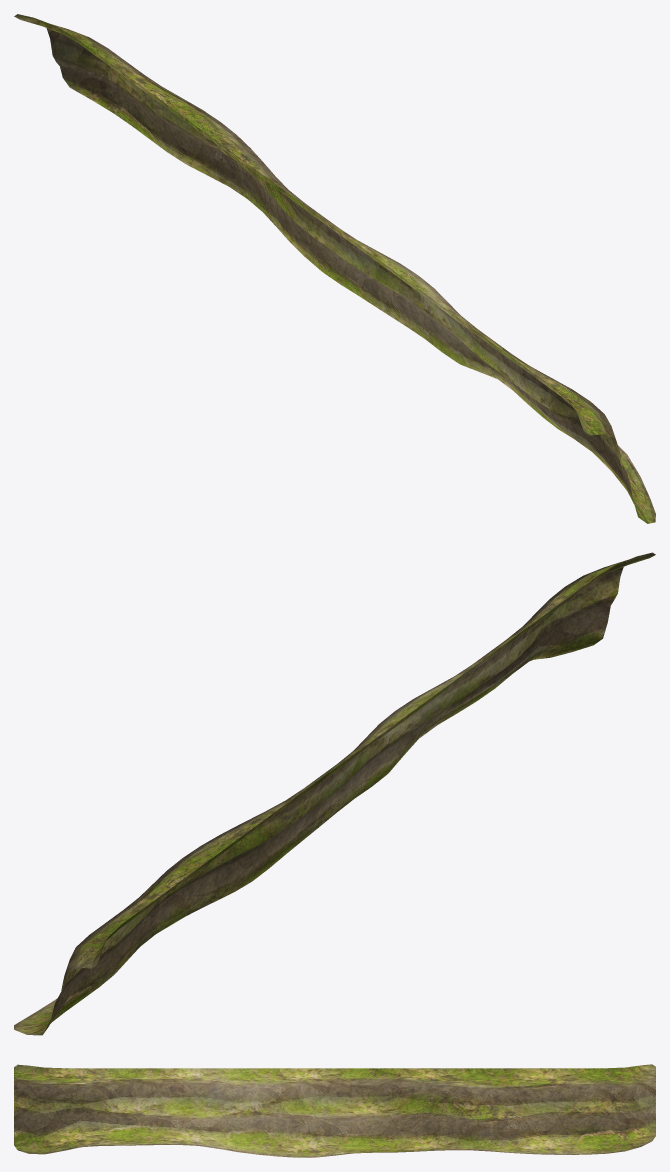
The model's file is mountain_back_02.fbx.
3 renders of one model, top to bottom at view 1: azimuth 30°, elevation 25°; view 2: azimuth 150°, elevation 25°; view 3: azimuth 270°, elevation 25°, orthographic. The views are drawn at different scales.
Visible parts, largest first — view 1: 02-mountain-back; view 2: 02-mountain-back; view 3: 02-mountain-back.
Part boxes in pixels (x1,y1,x2,y2): 02-mountain-back: [14, 14, 655, 523]; 02-mountain-back: [14, 552, 655, 1035]; 02-mountain-back: [14, 1064, 655, 1157].
Size of the model in its own units: 104 by 111 by 967.
1 material, 1 textured.
